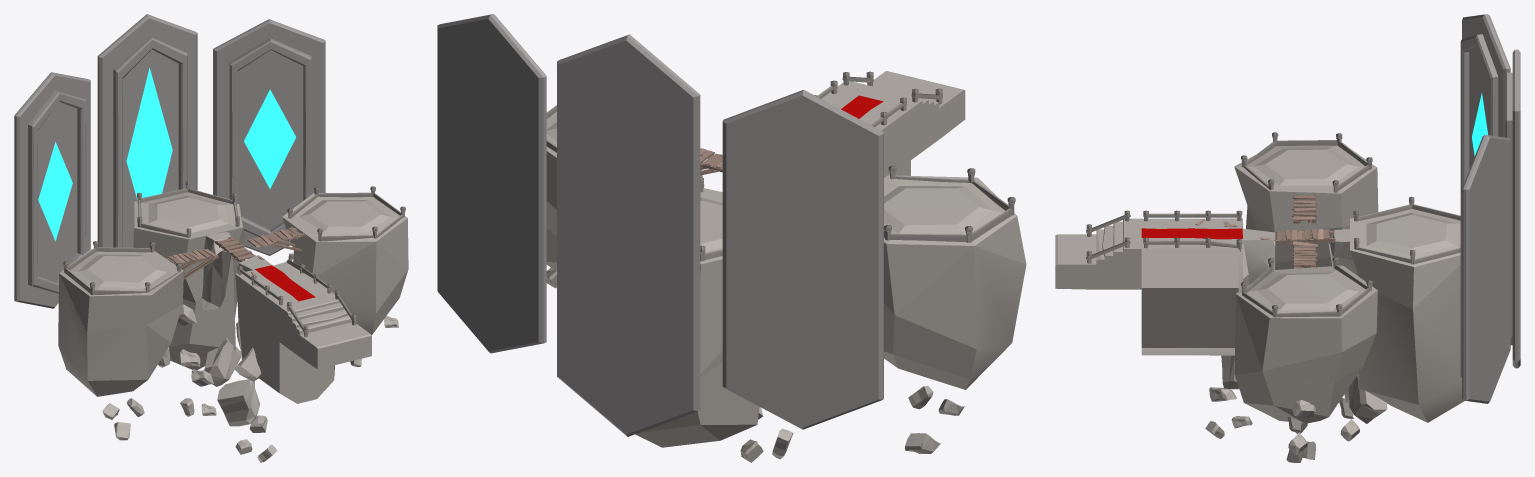
Rendered from arena.glb.
3 views of the same model, side by side, from view 1: azimuth 30°, elevation 25°; view 2: azimuth 150°, elevation 25°; view 3: azimuth 270°, elevation 25° (orthographic). The views are drawn at different scales.
Visible parts, largest first — view 1: Object_8, Object_5, Object_3, Object_7, Object_4, Object_9, Object_2, Object_6; view 2: Object_5, Object_8, Object_7, Object_4; view 3: Object_8, Object_5, Object_4, Object_7, Object_9, Object_2, Object_6, Object_3.
Boxes of the visible parts, x1,y1,x2,y2 form: Object_8: [58, 192, 408, 462]; Object_5: [14, 14, 325, 308]; Object_3: [38, 67, 296, 241]; Object_7: [278, 293, 371, 369]; Object_4: [63, 180, 405, 337]; Object_9: [166, 227, 305, 279]; Object_2: [255, 265, 315, 301]; Object_6: [177, 229, 292, 286]; Object_5: [437, 14, 883, 436]; Object_8: [546, 91, 1026, 462]; Object_7: [837, 71, 965, 160]; Object_4: [546, 71, 1015, 261]; Object_8: [1141, 145, 1464, 462]; Object_5: [1460, 14, 1520, 403]; Object_4: [1086, 132, 1460, 317]; Object_7: [1055, 218, 1142, 289]; Object_9: [1275, 194, 1335, 268]; Object_2: [1141, 228, 1242, 239]; Object_6: [1195, 200, 1323, 261]; Object_3: [1472, 93, 1487, 155].
Bounding box in the file's own units: 86.68 × 89.01 × 94.48.
